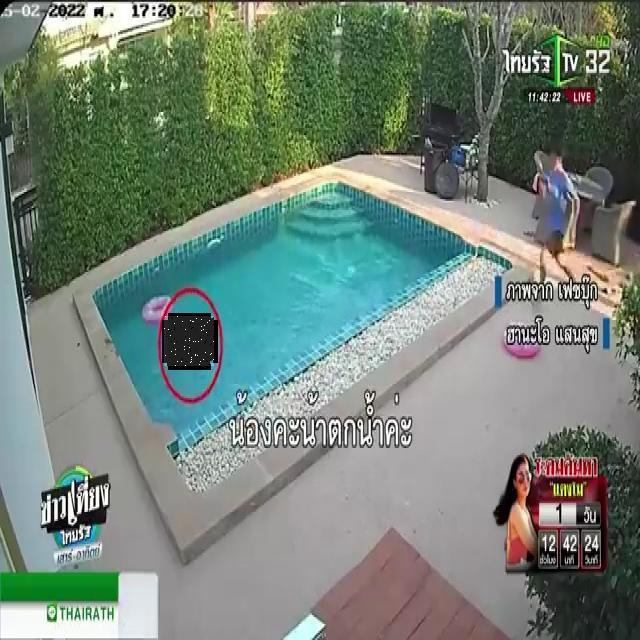Out of Water: (164, 316, 214, 366)
